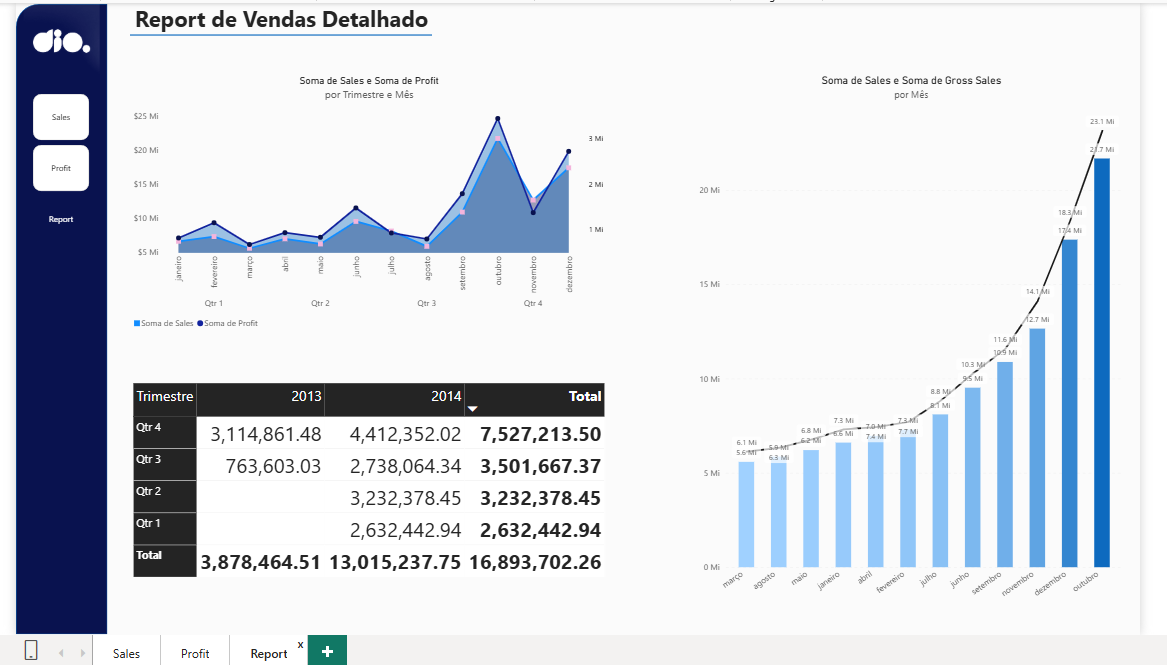

This screenshot's page, from the dashboard's own definition file:
{"tool":"powerbi","page":{"name":"Report","canvas":[1920,1080],"ordinal":2},"visuals":[{"type":"lineClusteredColumnComboChart","fields":{"Category":["financials.Date.Variation.Hierarquia de datas.Mês"],"Y":["Sum(financials.Sales)"],"Y2":["Sum(financials.Gross Sales)"]},"box":[1151.2,106.9,756.5,941.5],"z":0},{"type":"areaChart","fields":{"Category":["financials.Date.Variation.Hierarquia de datas.Trimestre","financials.Date.Variation.Hierarquia de datas.Mês"],"Y":["Sum(financials.Sales)"],"Y2":["Sum(financials.Profit)"]},"box":[185.2,107.2,838.2,470.3],"z":1000},{"type":"textbox","box":[78,2.4,750.4,53.9],"z":2000},{"type":"shape","box":[194.9,34.1,516,41.1],"z":3000},{"type":"shape","box":[0,2.1,156.2,1077.2],"z":4000},{"type":"image","title":"logo_dio","box":[0,0,156.2,129.5],"z":5000},{"type":"pivotTable","fields":{"Columns":["financials.Date.Variation.Hierarquia de datas.Ano"],"Rows":["financials.Date.Variation.Hierarquia de datas.Trimestre"],"Values":["Sum(financials.Profit)"]},"box":[185.2,635.9,838.2,385],"z":6000},{"type":"pageNavigator","box":[28.8,156.2,96.6,254.9],"z":7000}]}

Visuals, with their boxes on the page's 1920x1080 design canvas (x1, y1, x2, y2). These are canvas units, not pixel positions in the 1167x665 screenshot, which may show the page scaled, cropped or inside an application window:
lineClusteredColumnComboChart - financials.Date.Variation.Hierarquia de datas.Mês x Sum(financials.Sales): x1=1151 y1=107 x2=1908 y2=1048
areaChart - financials.Date.Variation.Hierarquia de datas.Trimestre x financials.Date.Variation.Hierarquia de datas.Mês: x1=185 y1=107 x2=1023 y2=578
textbox: x1=78 y1=2 x2=828 y2=56
shape: x1=195 y1=34 x2=711 y2=75
shape: x1=0 y1=2 x2=156 y2=1079
"logo_dio" image: x1=0 y1=0 x2=156 y2=130
pivotTable - financials.Date.Variation.Hierarquia de datas.Ano x financials.Date.Variation.Hierarquia de datas.Trimestre: x1=185 y1=636 x2=1023 y2=1021
pageNavigator: x1=29 y1=156 x2=125 y2=411
